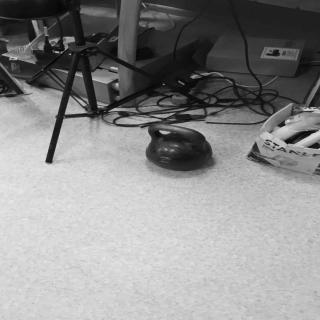kettlebell: (144, 121, 218, 175)
